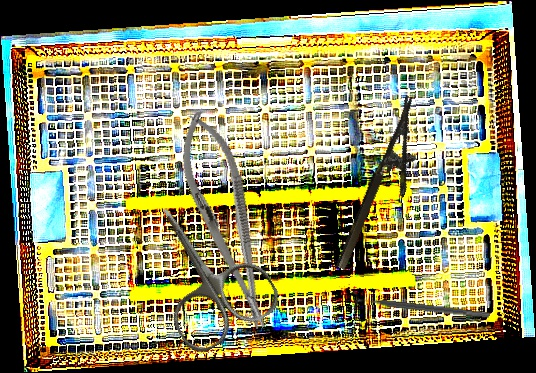Fixation Ring: (349, 289, 491, 327)
Iris Scissors: (120, 180, 286, 360)
Needle Holder: (166, 105, 287, 337), (334, 95, 441, 280)
